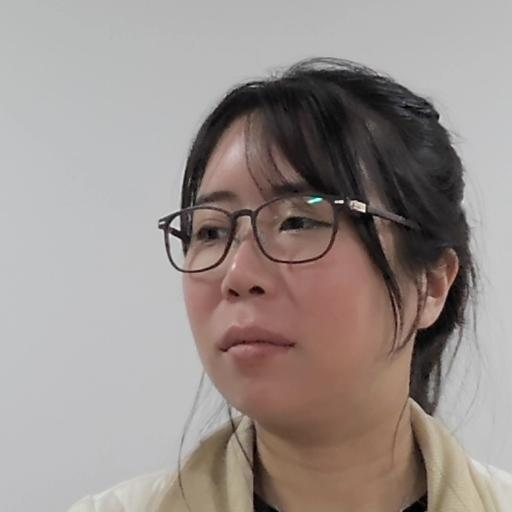no_glasses: (150, 66, 482, 440)
